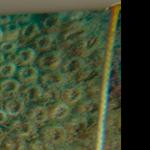dead: (1, 10, 121, 147)
